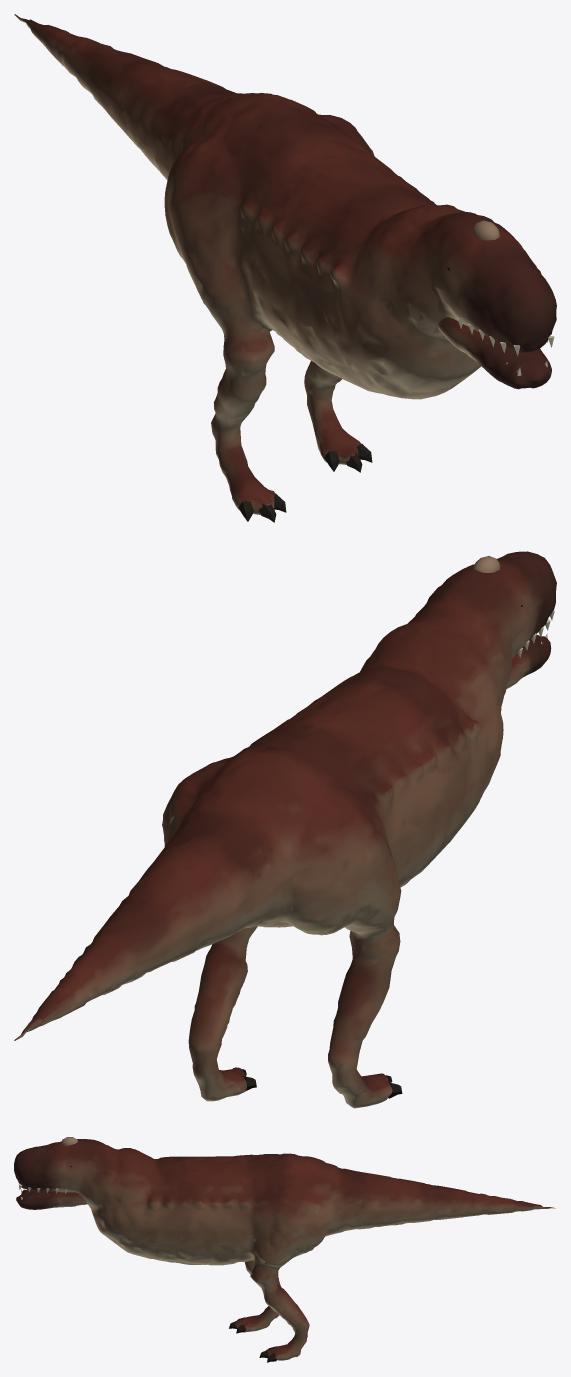
Rendered from Majungasaurus.fbx.
The picture shows the model from 3 angles, top to bottom: view 1: azimuth 30°, elevation 25°; view 2: azimuth 150°, elevation 25°; view 3: azimuth 270°, elevation 25°; orthographic projection. The views are drawn at different scales.
Visible parts, largest first — view 1: Majungasaurus; view 2: Majungasaurus; view 3: Majungasaurus.
Boxes of the visible parts, left/top/right/bottom form: Majungasaurus: left=14, top=14, right=556, bottom=522; Majungasaurus: left=14, top=551, right=556, bottom=1108; Majungasaurus: left=14, top=1137, right=555, bottom=1362.
Bounding box in the file's own units: 0.3931 × 0.7474 × 1.77.
